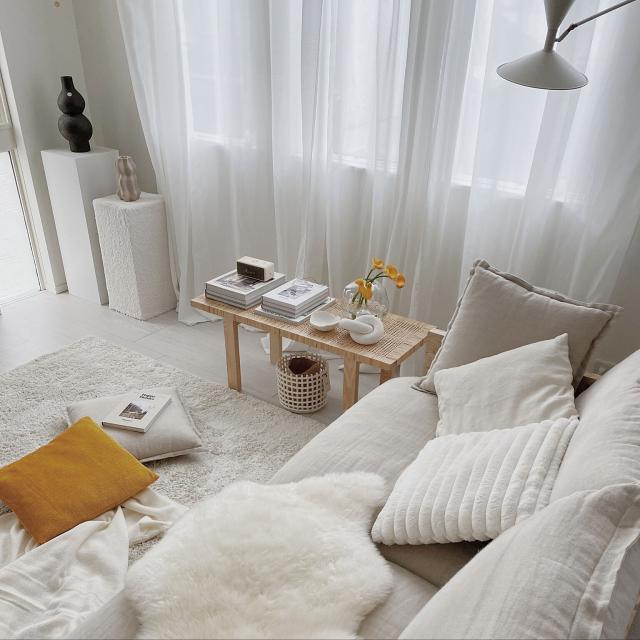white sofa: (143, 362, 640, 639)
